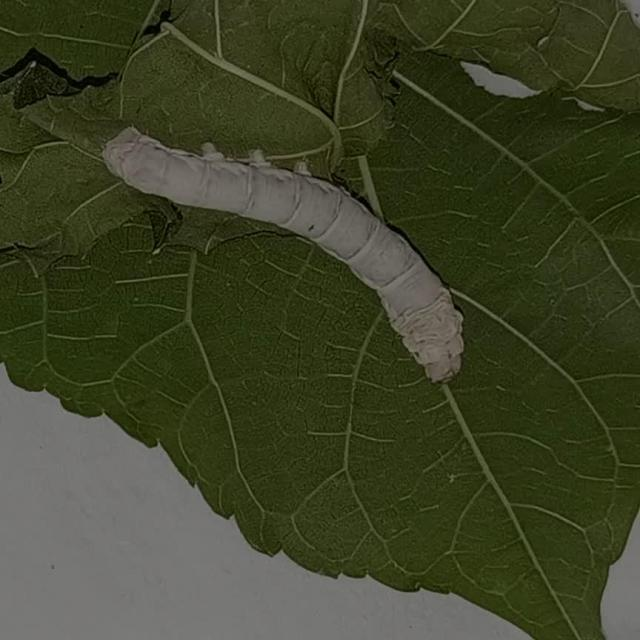Healthy: (91, 124, 494, 392)
